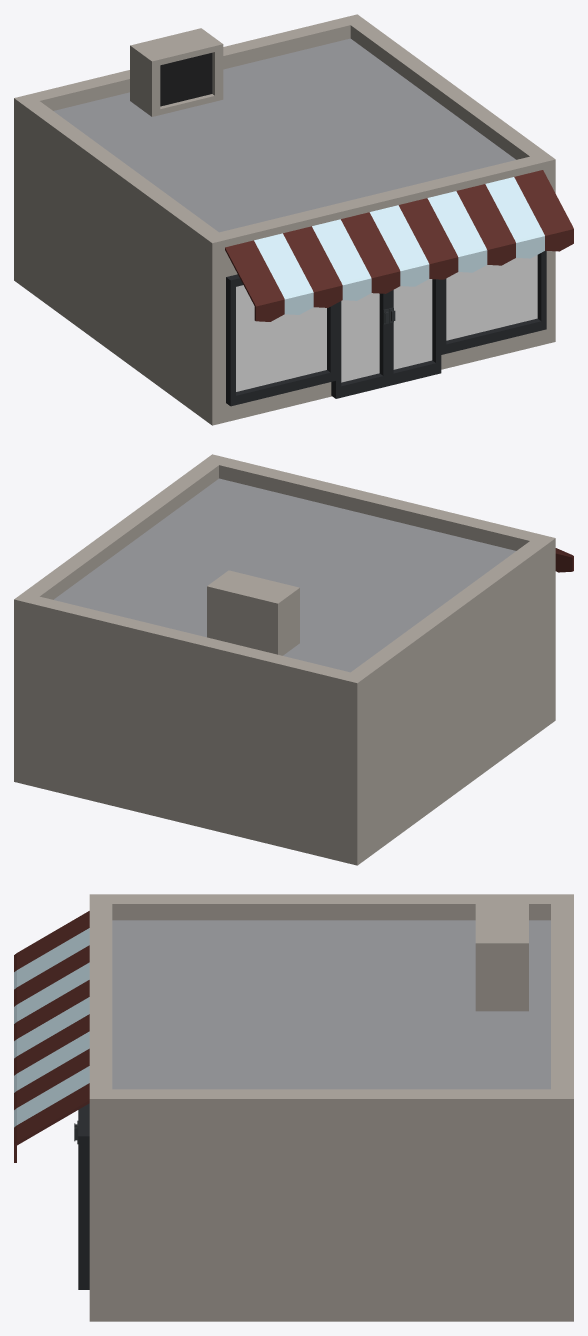
Rendered from SM_market_03_B.gltf.
3 views of the same model, one above another, from view 1: azimuth 30°, elevation 25°; view 2: azimuth 150°, elevation 25°; view 3: azimuth 270°, elevation 25° (orthographic). The views are drawn at different scales.
Visible parts, largest first — view 1: SM_market_03_B; view 2: SM_market_03_B; view 3: SM_market_03_B.
Part boxes in pixels (<box>): SM_market_03_B: <box>14,14,573,425</box>; SM_market_03_B: <box>14,454,573,865</box>; SM_market_03_B: <box>14,894,573,1321</box>.
Size of the model in its own units: 3.8 by 2.37 by 4.39.
